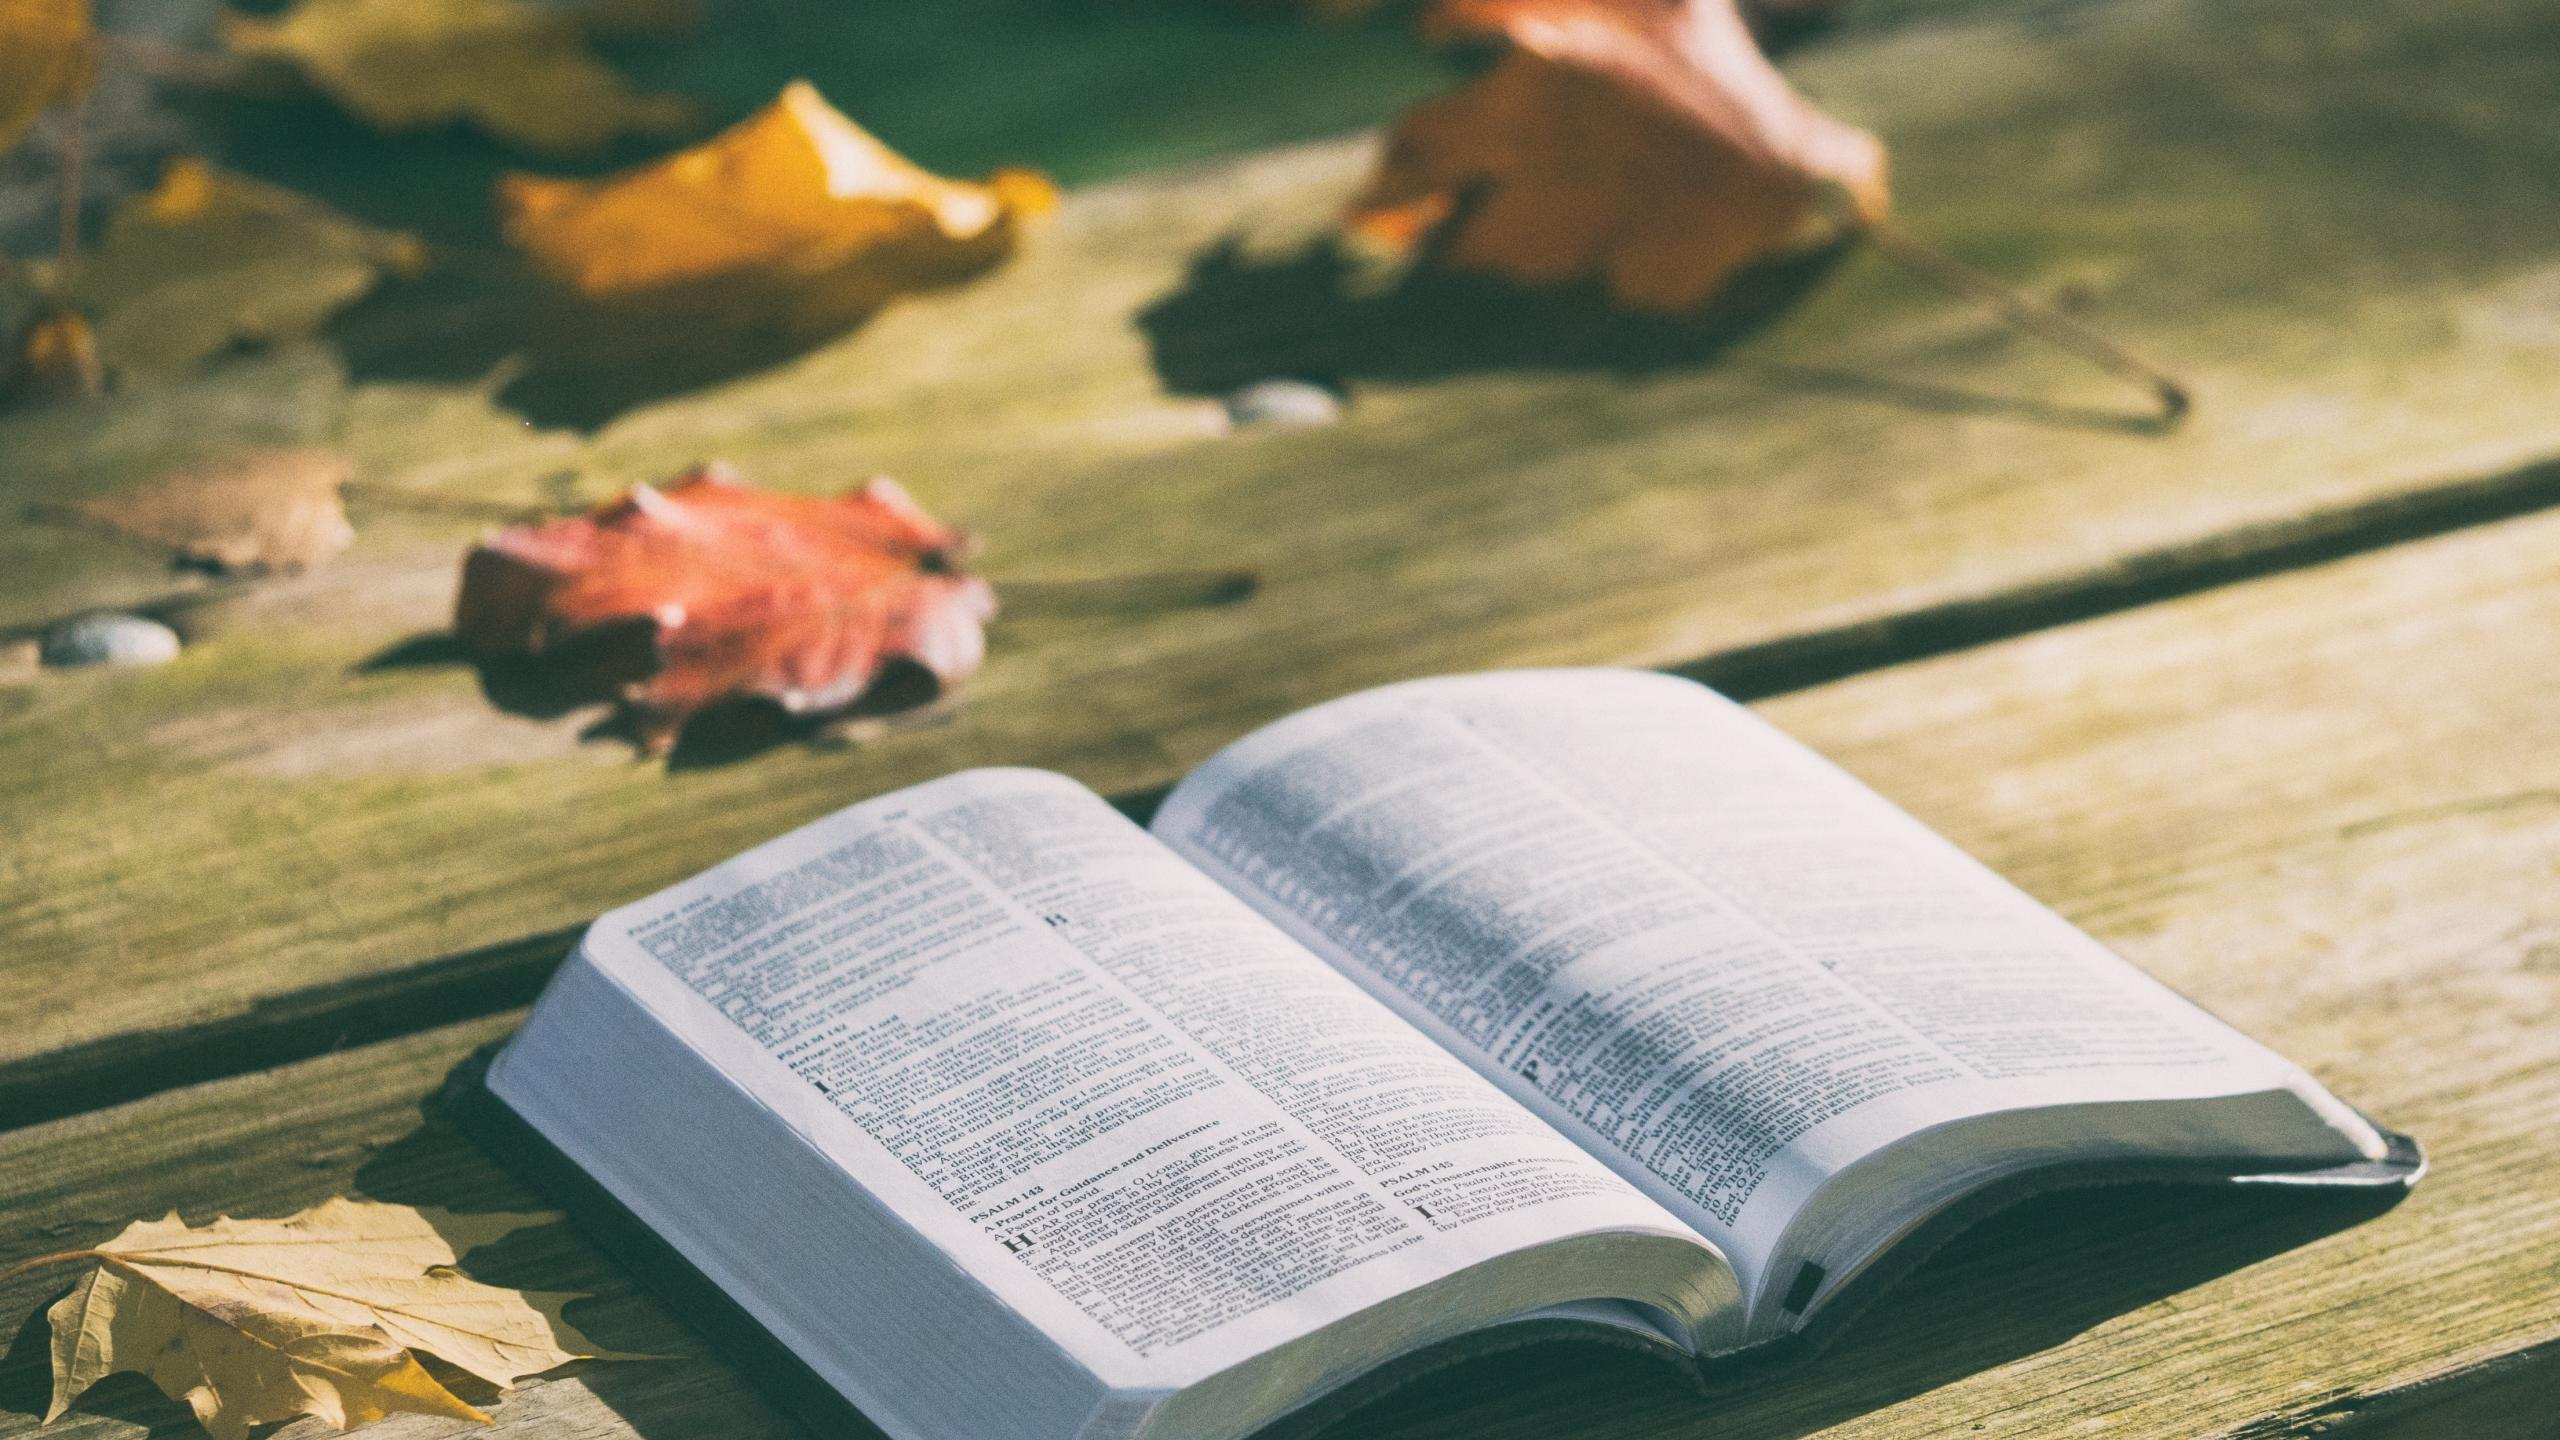book: (424, 647, 2430, 1417)
